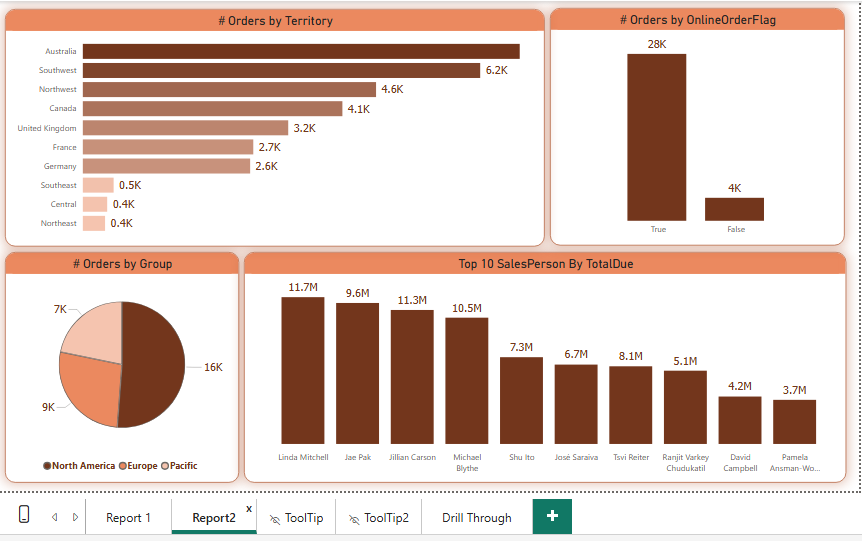

Layout of this report page (visuals, bound fields, positions):
{"tool":"powerbi","page":{"name":"Report2","canvas":[1280,720],"ordinal":1},"visuals":[{"type":"pieChart","title":"# Orders by Group","fields":{"Y":["Dax Measures.# Orders"],"Series":["Status Dim.Status"],"Category":["Territory Dim.Group"]},"box":[26.8,369.1,343.8,339.3],"z":0},{"type":"columnChart","fields":{"Y":["Dax Measures.# Orders"],"Category":["Fact Sales.OnlineOrderFlag"]},"box":[826.4,10.5,433,348.6],"z":1000,"group":"g1"},{"type":"columnChart","title":"Top 10 SalesPerson By TotalDue","fields":{"Y":["Fact Sales.TotalDue"],"Category":["SalesPerson Dim.SalesPerson Name"]},"box":[377,368.8,884.9,339.1],"z":1000},{"type":"barChart","fields":{"Y":["Dax Measures.# Orders"],"Category":["Territory Dim.Territory"]},"box":[26.2,11.4,793,348.6],"z":2000,"group":"g1"},{"type":"group","id":"g1","title":"Group 1","box":[26.2,10.5,1233.2,348.2],"z":2000}]}

Visuals, with their boxes on the page's 1280x720 design canvas (x1, y1, x2, y2). These are canvas units, not pixel positions in the 862x541 screenshot, which may show the page scaled, cropped or inside an application window:
"# Orders by Group" pieChart: box=[27, 369, 371, 708]
columnChart - Dax Measures.# Orders x Fact Sales.OnlineOrderFlag: box=[826, 10, 1259, 359]
"Top 10 SalesPerson By TotalDue" columnChart: box=[377, 369, 1262, 708]
barChart - Dax Measures.# Orders x Territory Dim.Territory: box=[26, 11, 819, 360]
"Group 1" group: box=[26, 10, 1259, 359]
